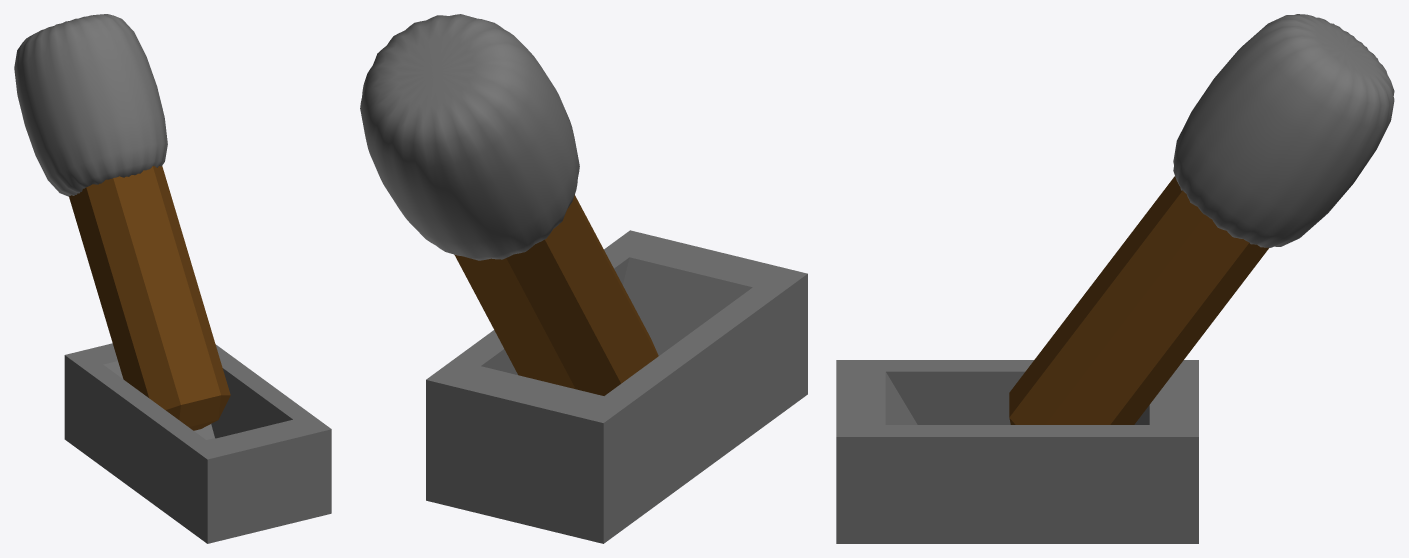
File: lever.fbx
3 views of the same model, side by side, from view 1: azimuth 30°, elevation 25°; view 2: azimuth 150°, elevation 25°; view 3: azimuth 270°, elevation 25° (orthographic). The views are drawn at different scales.
Parts seen in each view (by area): view 1: pasted__polySurface16, pasted__pasted__polySurface10; view 2: pasted__pasted__polySurface10, pasted__polySurface16; view 3: pasted__polySurface16, pasted__pasted__polySurface10.
Boxes of the visible parts, x1=… form: pasted__polySurface16: x1=14, y1=14, x2=230, y2=430; pasted__pasted__polySurface10: x1=64, y1=343, x2=331, y2=543; pasted__pasted__polySurface10: x1=426, y1=230, x2=807, y2=543; pasted__polySurface16: x1=360, y1=14, x2=658, y2=395; pasted__polySurface16: x1=1009, y1=14, x2=1394, y2=424; pasted__pasted__polySurface10: x1=836, y1=360, x2=1198, y2=543.
Bounding box in the file's own units: 3.52 × 10.23 × 10.78.
